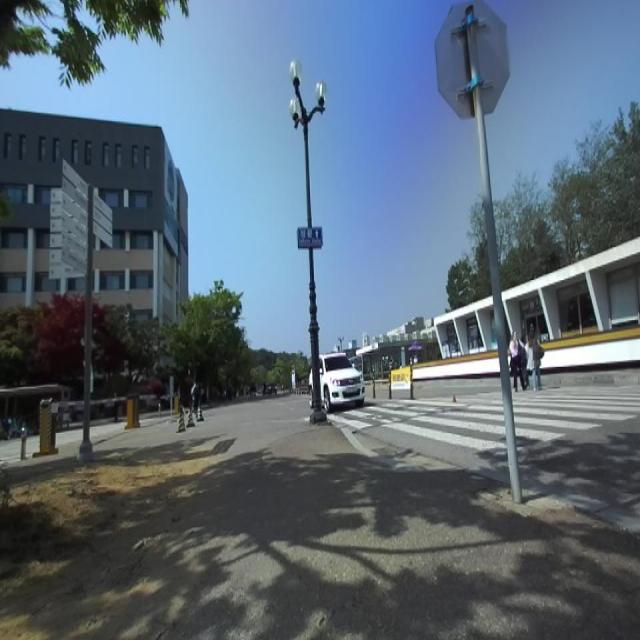sidewalk: (172, 420, 640, 640)
